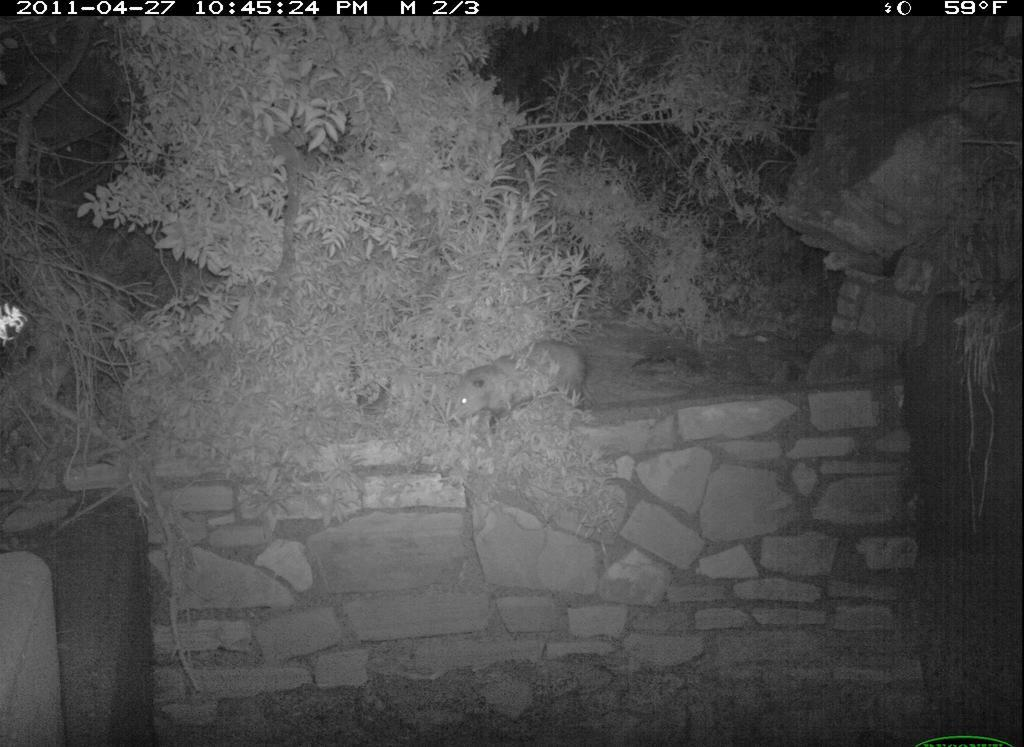opossum: (438, 328, 603, 438)
